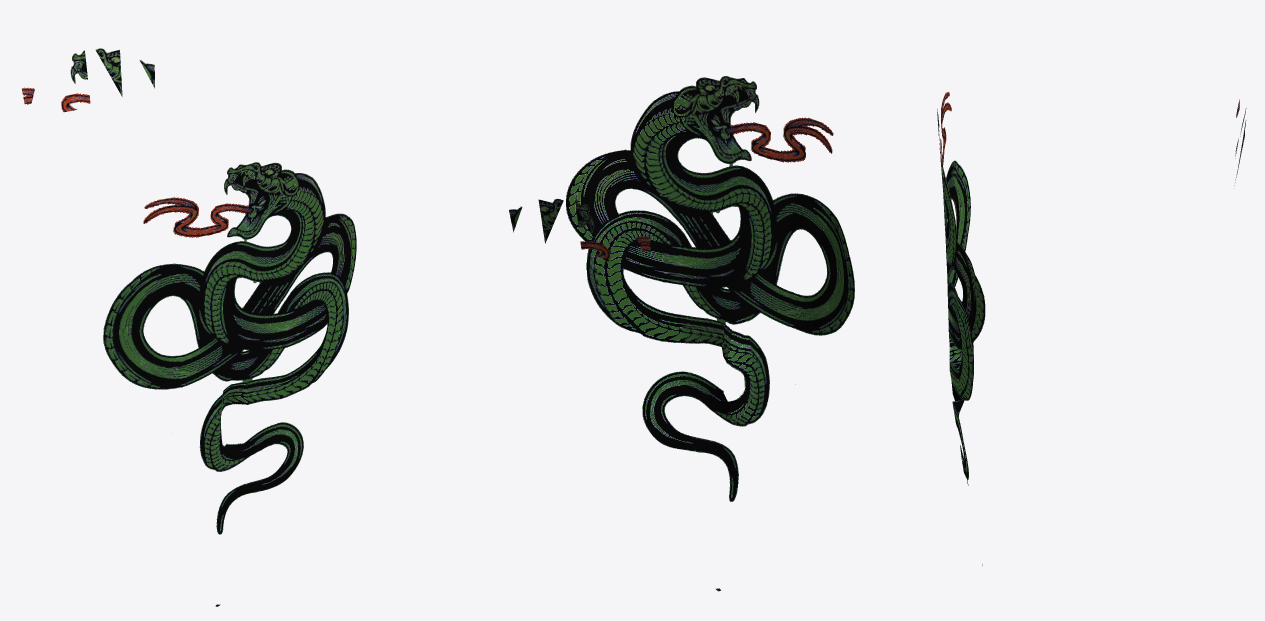
File: tatuaje.obj
3 renders of one model, left to right at view 1: azimuth 30°, elevation 25°; view 2: azimuth 150°, elevation 25°; view 3: azimuth 270°, elevation 25°, orthographic. The views are drawn at different scales.
Parts seen in each view (by area): view 1: 材質2.002_SaraTe01.023; view 2: 材質2.002_SaraTe01.023; view 3: 材質2.002_SaraTe01.023.
Boxes of the visible parts, x1,y1,x2,y2 form: 材質2.002_SaraTe01.023: (21, 48, 356, 606); 材質2.002_SaraTe01.023: (509, 76, 854, 591); 材質2.002_SaraTe01.023: (937, 92, 1246, 566).
Bounding box in the file's own units: 2.55 × 2.92 × 1.7.
1 material, 1 textured.
